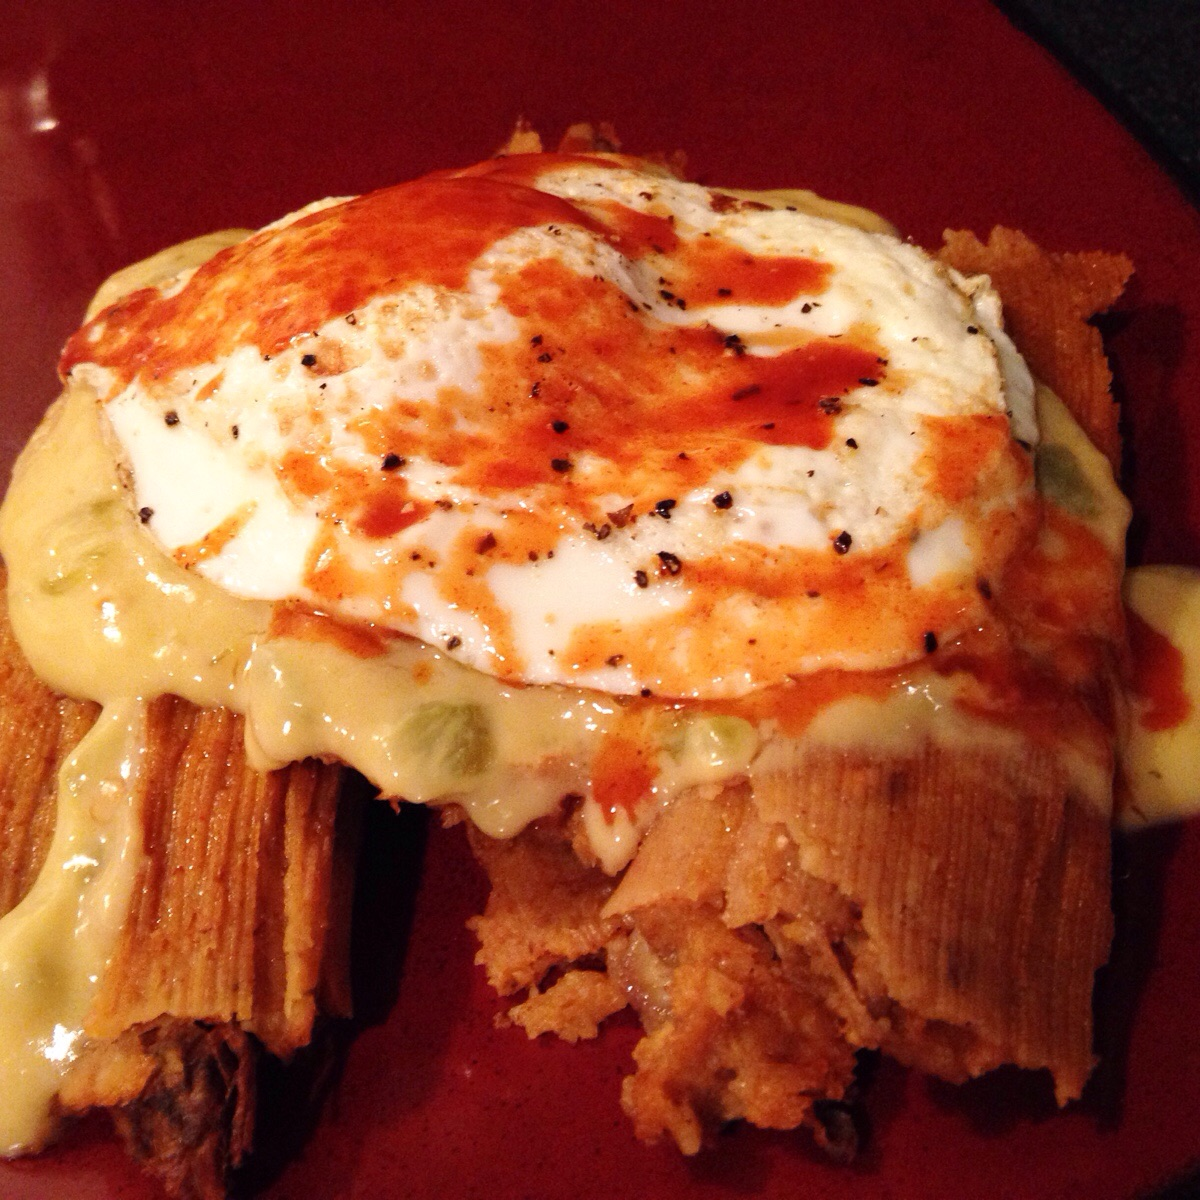fried egg: (93, 190, 1058, 677)
